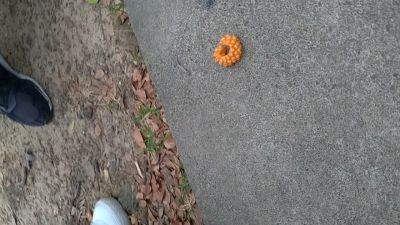eggs: (212, 33, 243, 68)
